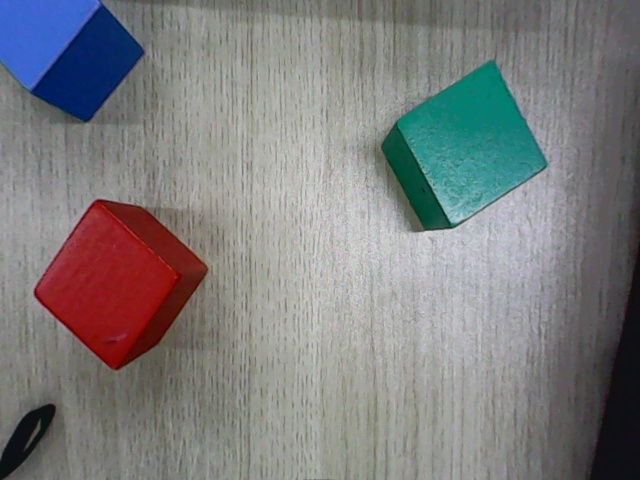upside of big cube: (397, 60, 550, 226), (32, 201, 179, 371), (0, 0, 101, 91)
